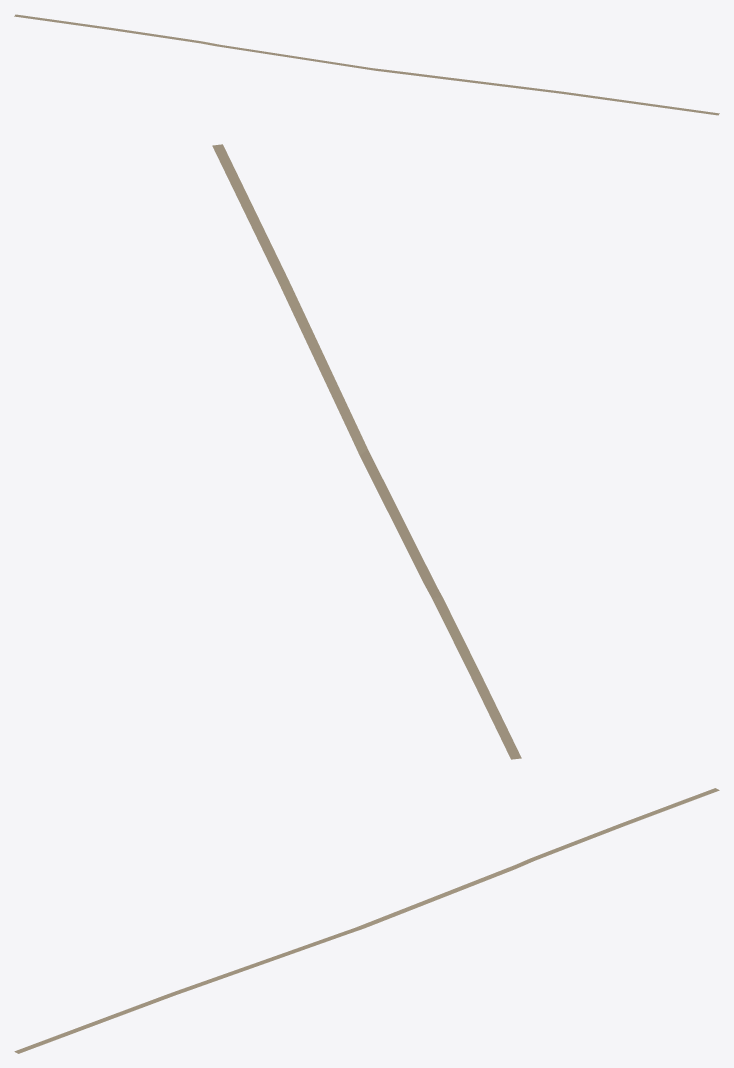
File: farm_5_20_track.glb
The picture shows the model from 3 angles, top to bottom: view 1: azimuth 30°, elevation 25°; view 2: azimuth 150°, elevation 25°; view 3: azimuth 270°, elevation 25°; orthographic projection. The views are drawn at different scales.
Parts seen in each view (by area): view 1: geometry_0; view 2: geometry_0; view 3: geometry_0.
Boxes of the visible parts, x1,y1,x2,y2 form: geometry_0: (14, 14, 719, 115); geometry_0: (212, 144, 521, 759); geometry_0: (14, 788, 719, 1053).
Size of the model in its own units: 296 by 2.5 by 333.
